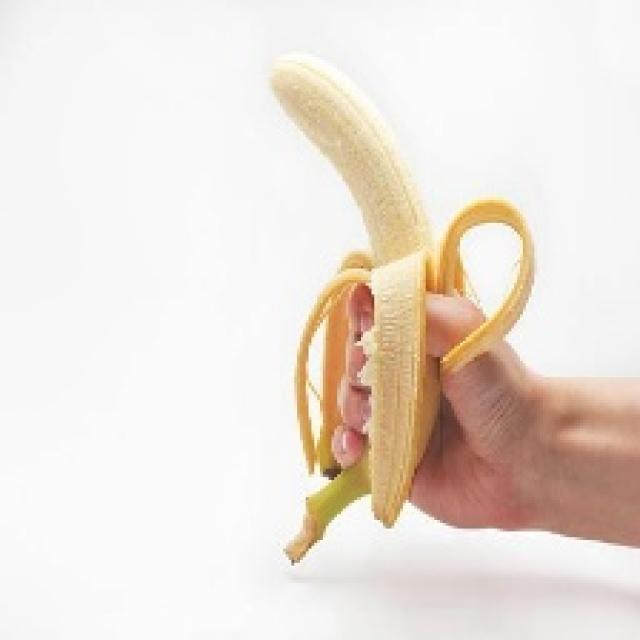Banana: (266, 48, 534, 563)
